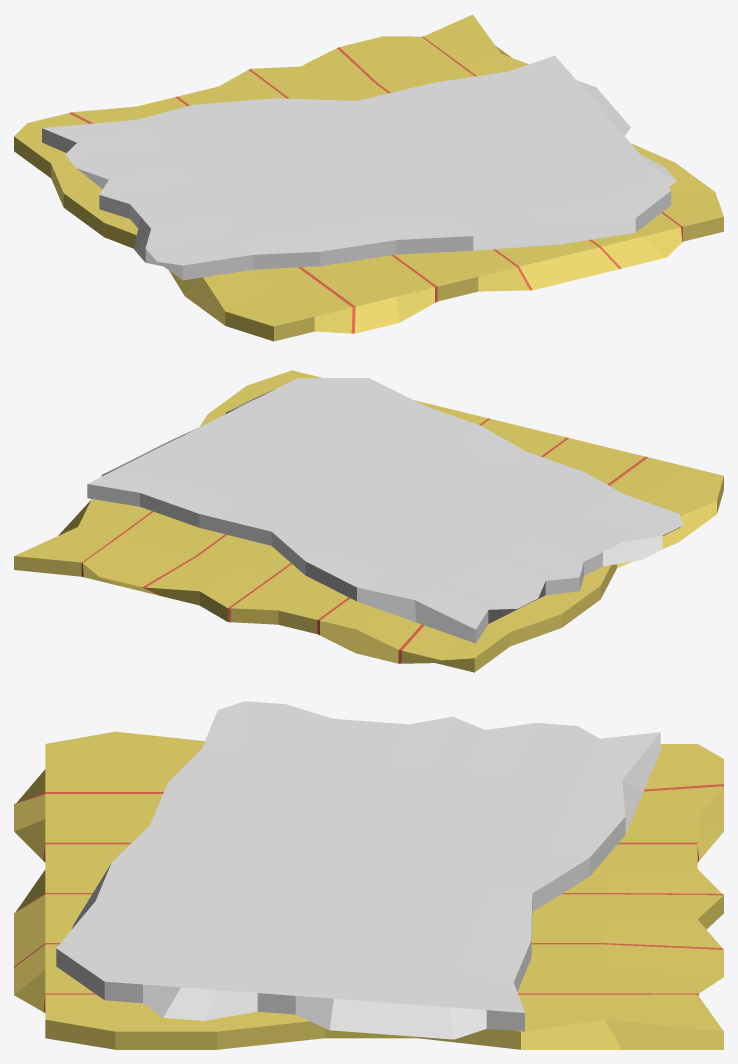
File: paper.fbx
3 views of the same model, one above another, from view 1: azimuth 30°, elevation 25°; view 2: azimuth 150°, elevation 25°; view 3: azimuth 270°, elevation 25° (orthographic). The views are drawn at different scales.
Visible parts, largest first — view 1: Paper; view 2: Paper; view 3: Paper.
Part boxes in pixels (x1=…): Paper: x1=14, y1=14, x2=723, y2=341; Paper: x1=14, y1=370, x2=723, y2=672; Paper: x1=14, y1=701, x2=723, y2=1049.
Size of the model in its own units: 34.88 by 1.97 by 32.68.
